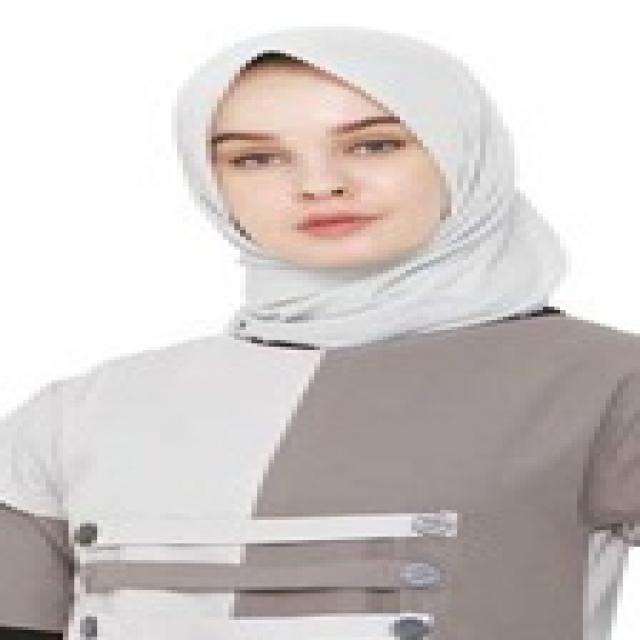head: (168, 21, 514, 284)
